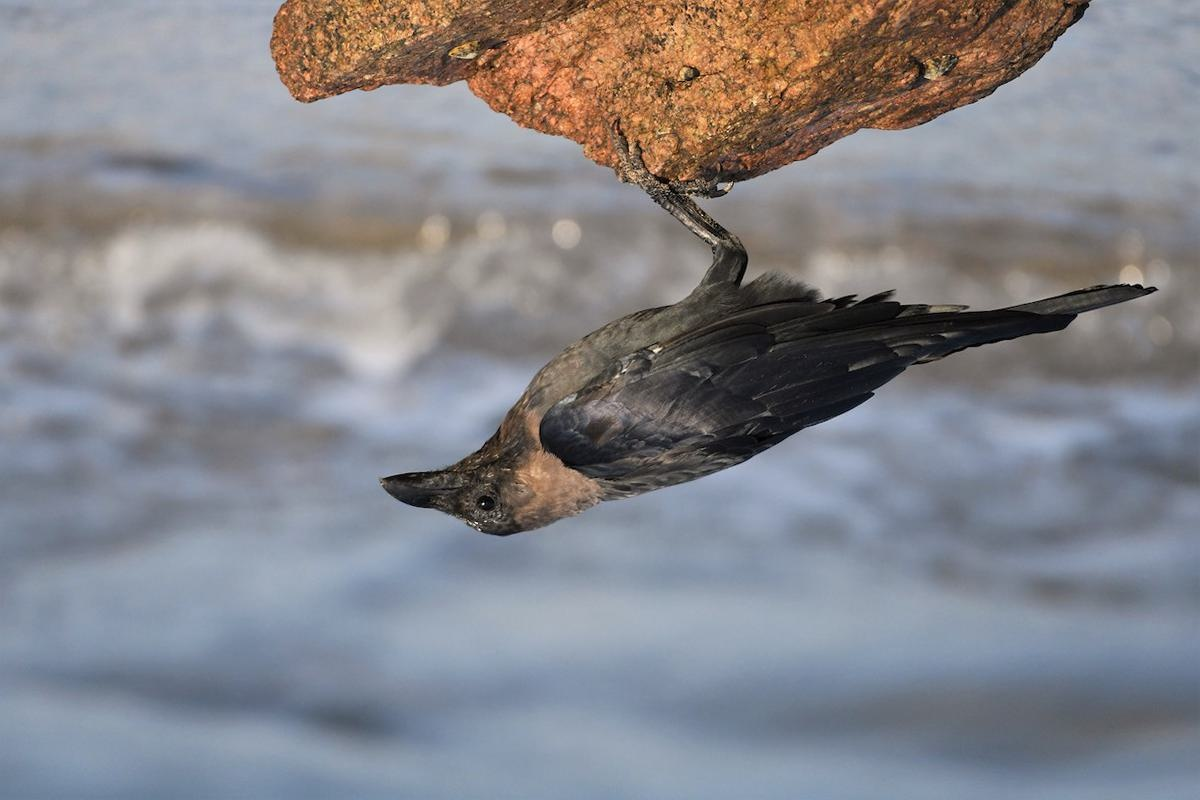crow: (367, 216, 1165, 549)
